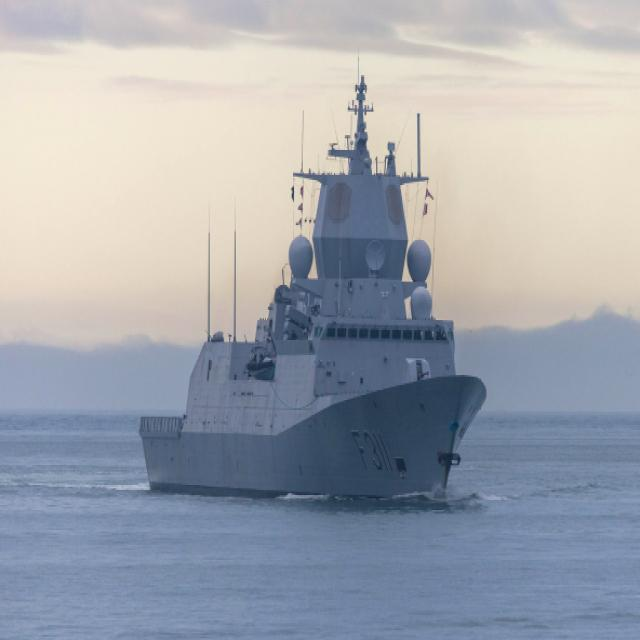Fragata: (135, 58, 491, 519)
